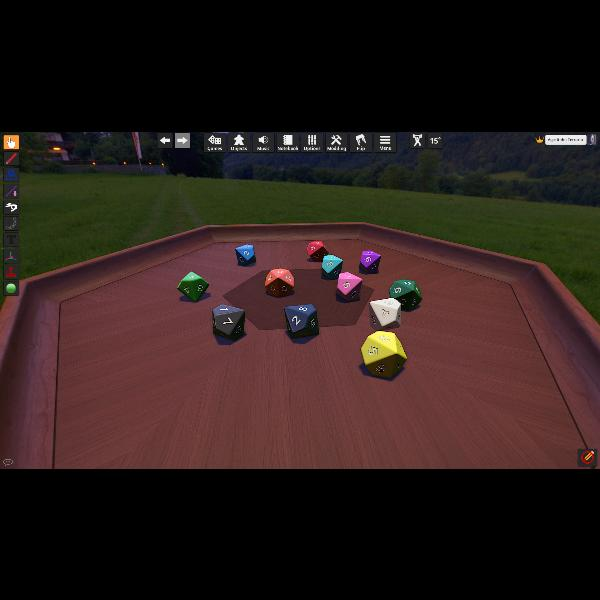d10: (360, 330, 406, 378), (210, 303, 242, 340), (284, 303, 316, 337), (389, 278, 422, 310), (369, 298, 401, 330), (178, 270, 209, 302), (264, 268, 294, 296), (335, 272, 360, 300), (234, 242, 256, 266), (321, 254, 343, 278), (360, 249, 380, 271), (306, 240, 324, 260)
